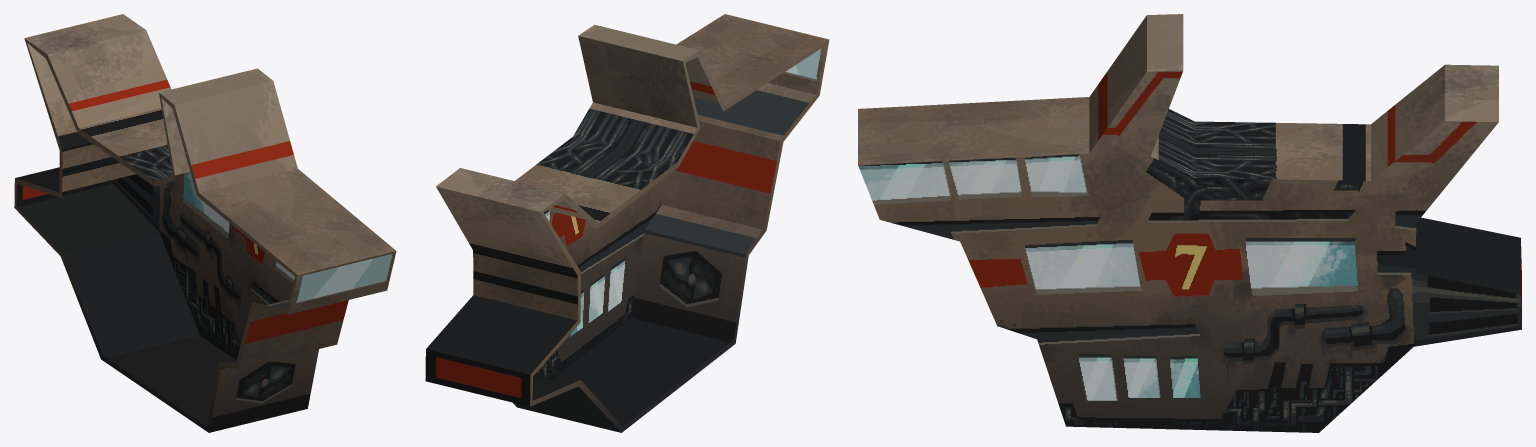
The model's file is WonderShip.fbx.
3 views of the same model, side by side, from view 1: azimuth 30°, elevation 25°; view 2: azimuth 150°, elevation 25°; view 3: azimuth 270°, elevation 25° (orthographic). The views are drawn at different scales.
Visible parts, largest first — view 1: Cube; view 2: Cube; view 3: Cube.
Boxes of the visible parts, left/top/right/bottom form: Cube: left=14, top=14, right=396, bottom=432; Cube: left=425, top=14, right=829, bottom=432; Cube: left=858, top=14, right=1521, bottom=432.
Bounding box in the file's own units: 265 × 792 × 1314.
Materials: 1 (1 with a texture image).
